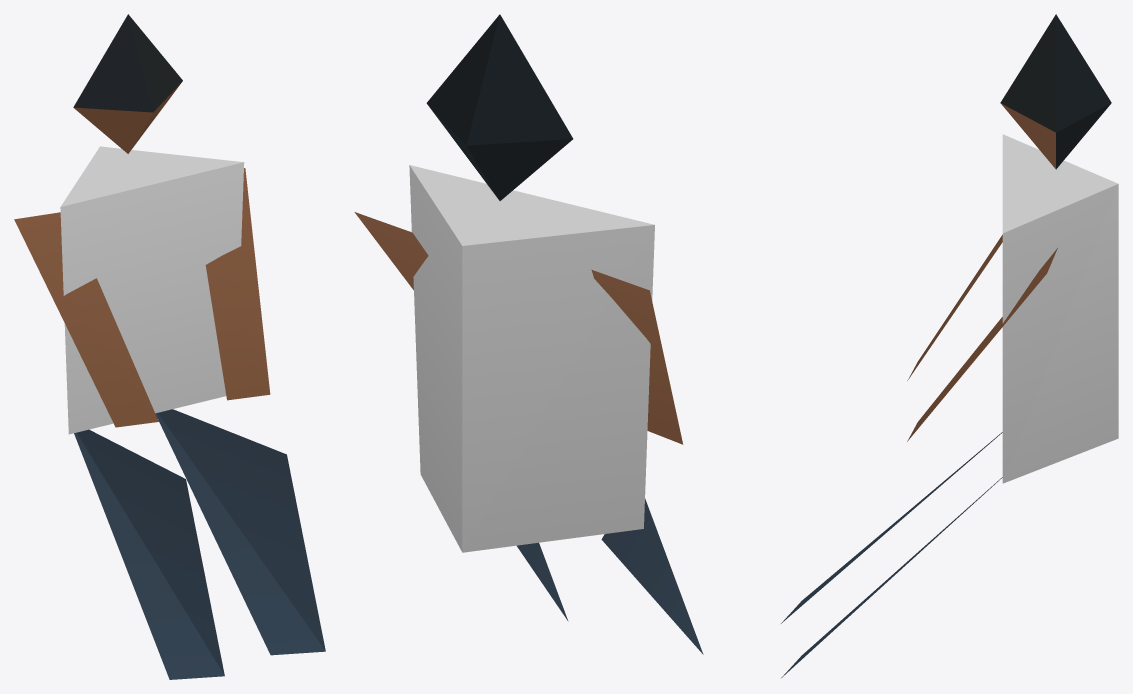
The model's file is fan-02.glb.
3 renders of one model, left to right at view 1: azimuth 30°, elevation 25°; view 2: azimuth 150°, elevation 25°; view 3: azimuth 270°, elevation 25°, orthographic. The views are drawn at different scales.
Visible parts, largest first — view 1: fan-02; view 2: fan-02; view 3: fan-02.
Boxes of the visible parts, x1,y1,x2,y2 form: fan-02: [14, 14, 325, 679]; fan-02: [354, 14, 703, 654]; fan-02: [781, 14, 1118, 677].
Size of the model in its own units: 0.65 by 1.55 by 0.76.
